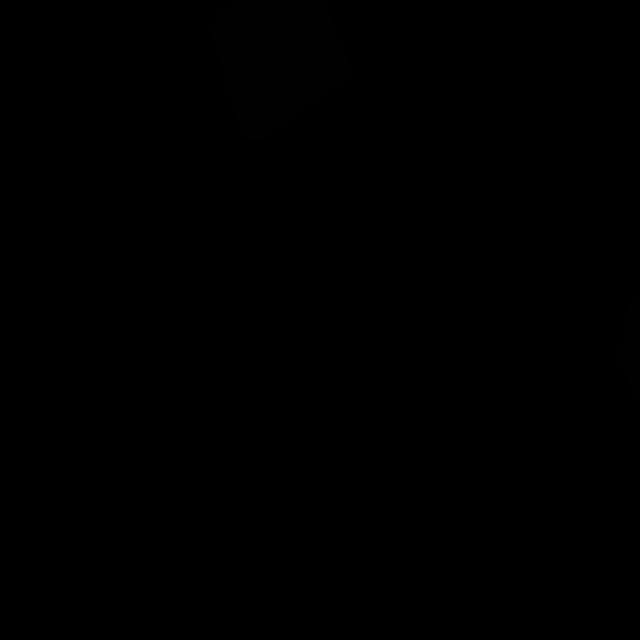rigid_plastic: (211, 0, 355, 143), (620, 287, 639, 416)
